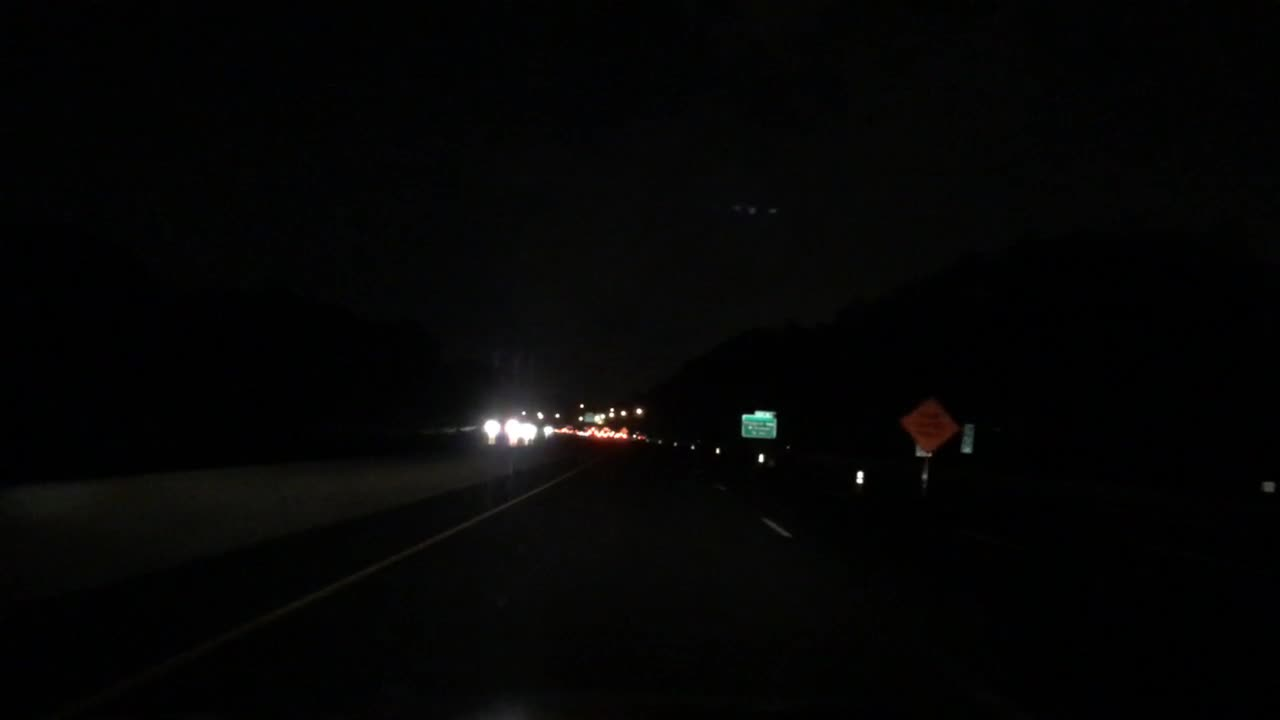car: (483, 416, 522, 444), (522, 420, 553, 444), (630, 430, 649, 445)
traffic sign: (901, 397, 957, 453), (738, 409, 779, 439), (959, 416, 976, 458), (911, 443, 938, 457), (581, 410, 600, 425)
